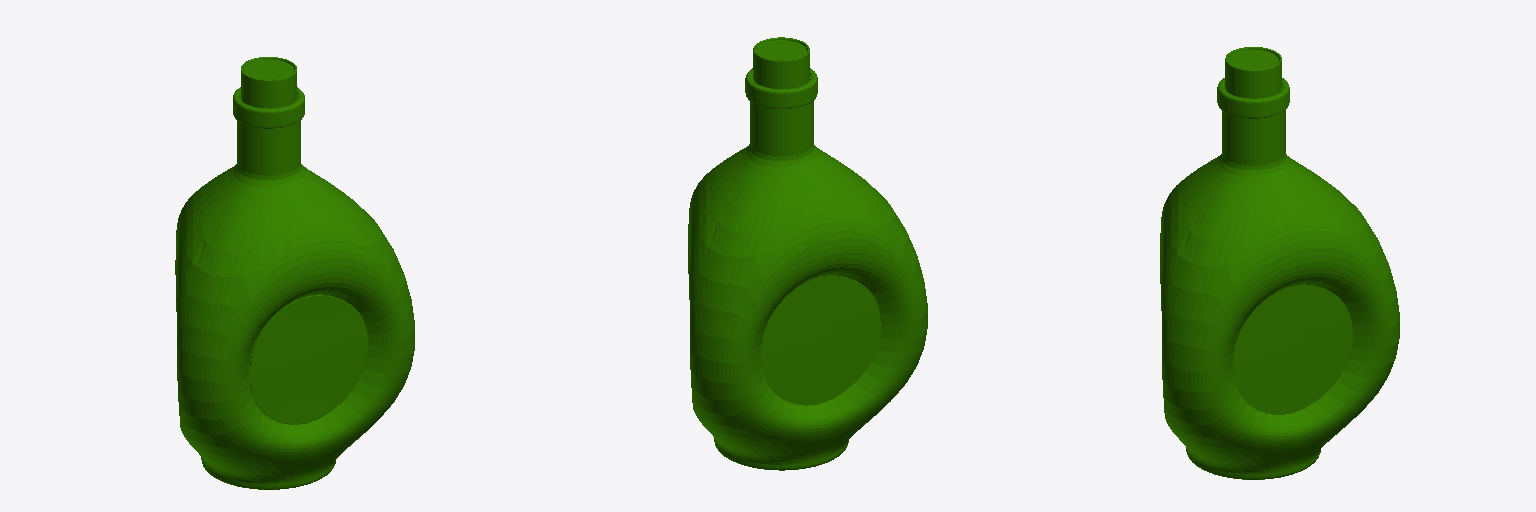
The model's file is brandy.obj.
3 views of the same model, side by side, from view 1: azimuth 30°, elevation 25°; view 2: azimuth 150°, elevation 25°; view 3: azimuth 270°, elevation 25° (orthographic).
Visible parts, largest first — view 1: NGon004; view 2: NGon004; view 3: NGon004.
Boxes of the visible parts, x1,y1,x2,y2 form: NGon004: [175, 57, 414, 489]; NGon004: [688, 37, 927, 470]; NGon004: [1160, 47, 1399, 479].
Bounding box in the file's own units: 12.66 × 20.73 × 11.41.